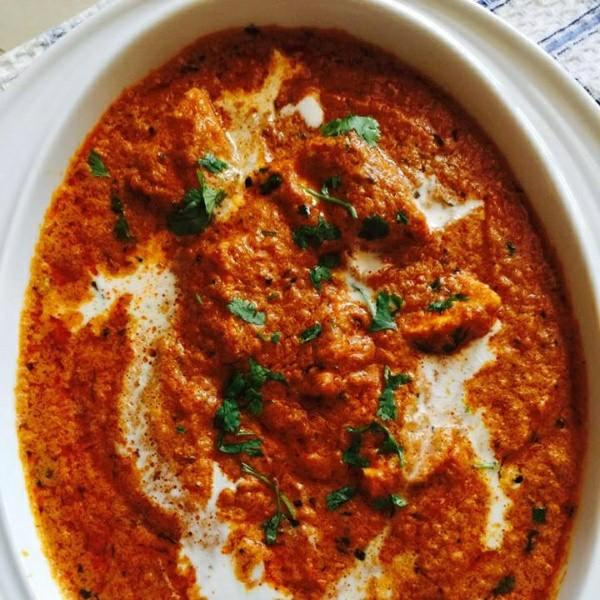ShahiPaneer: (28, 17, 580, 600)
